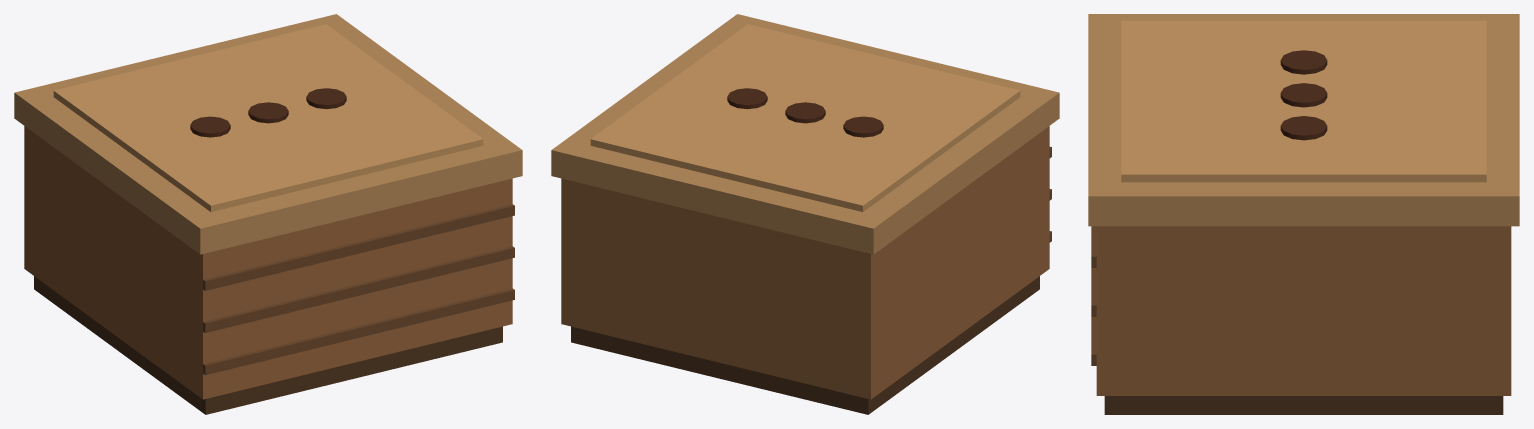
The model's file is k_crate_3.glb.
The picture shows the model from 3 angles, left to right: view 1: azimuth 30°, elevation 25°; view 2: azimuth 150°, elevation 25°; view 3: azimuth 270°, elevation 25°; orthographic projection. The views are drawn at different scales.
Parts seen in each view (by area): view 1: piece; view 2: piece; view 3: piece.
Part boxes in pixels (x1,y1,x2,y2): piece: (14, 14, 522, 414); piece: (551, 14, 1059, 414); piece: (1088, 14, 1519, 414).
Size of the model in its own units: 1.04 by 0.6325 by 1.04.
